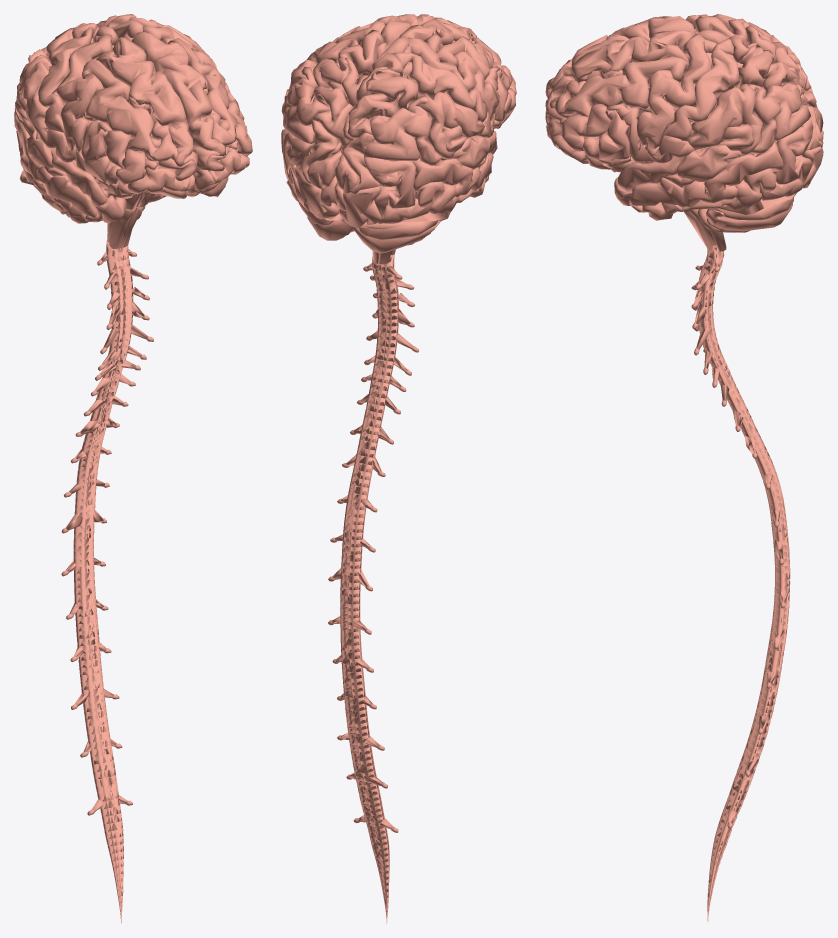
The model's file is SpinalDura.glb.
3 views of the same model, side by side, from view 1: azimuth 30°, elevation 25°; view 2: azimuth 150°, elevation 25°; view 3: azimuth 270°, elevation 25° (orthographic).
Parts seen in each view (by area): view 1: Spinal dura; view 2: Spinal dura; view 3: Spinal dura.
Boxes of the visible parts, x1,y1,x2,y2 form: Spinal dura: [14, 14, 252, 923]; Spinal dura: [281, 14, 516, 923]; Spinal dura: [545, 14, 823, 922].
Bounding box in the file's own units: 0.1494 × 0.7023 × 0.1968.
